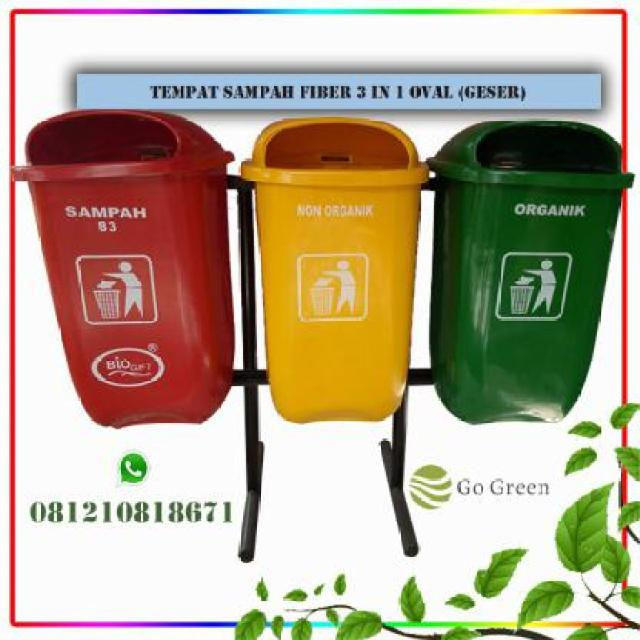garbage container: (14, 102, 231, 440), (422, 116, 640, 432), (236, 112, 433, 439)
